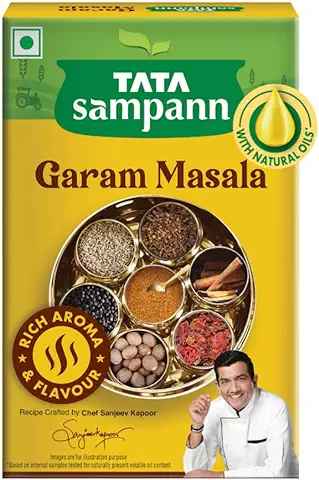Garamasala: (3, 2, 301, 480)
